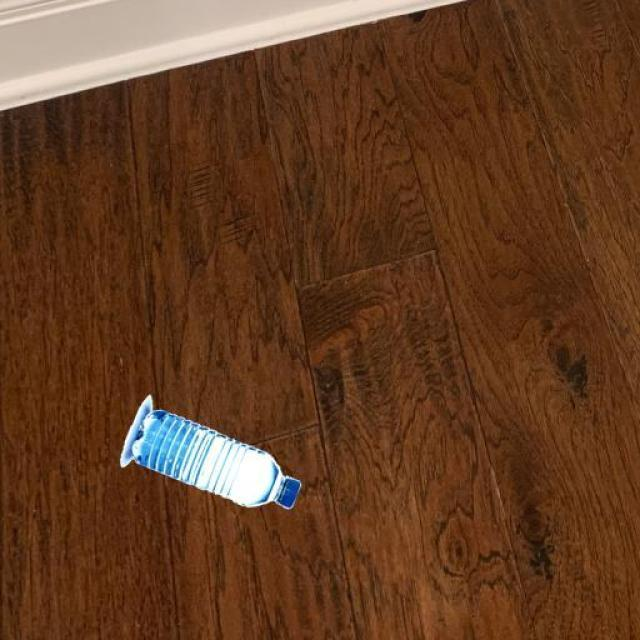bottle: (118, 392, 302, 512)
